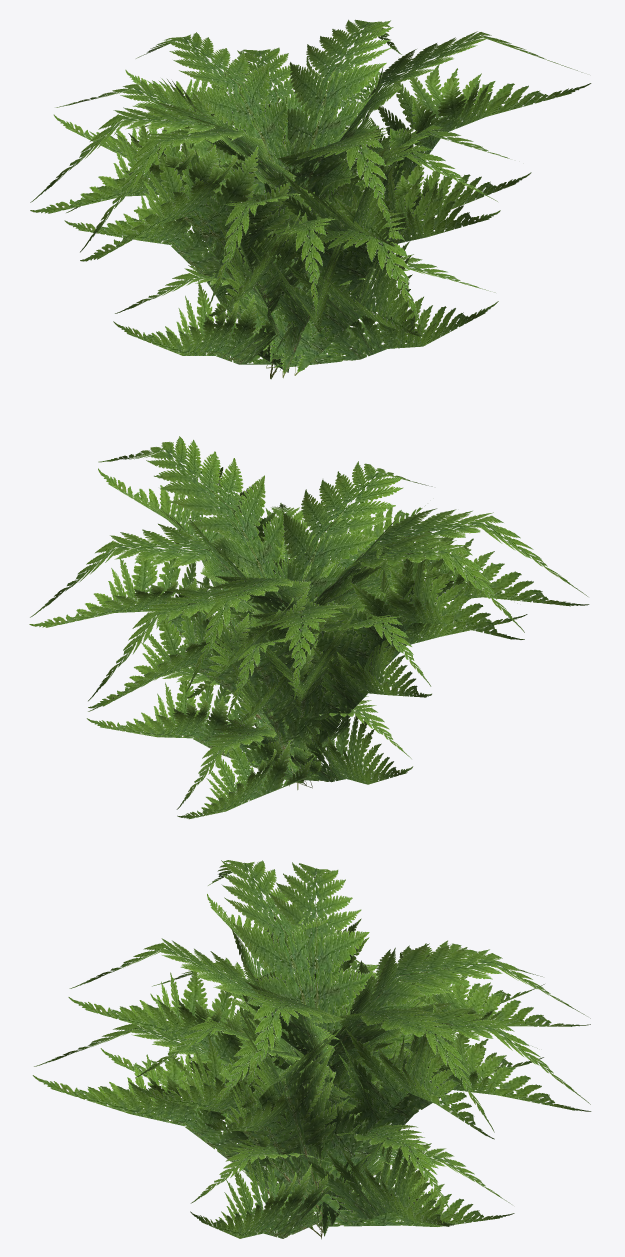
File: Farn02.FBX
The picture shows the model from 3 angles, top to bottom: view 1: azimuth 30°, elevation 25°; view 2: azimuth 150°, elevation 25°; view 3: azimuth 270°, elevation 25°; orthographic projection. The views are drawn at different scales.
Parts seen in each view (by area): view 1: Yucca02; view 2: Yucca02; view 3: Yucca02.
Part boxes in pixels (bbox=[...]): Yucca02: bbox=[30, 19, 591, 379]; Yucca02: bbox=[29, 436, 589, 819]; Yucca02: bbox=[32, 860, 591, 1239].
Size of the model in its own units: 266 by 155 by 255.
Materials: 1 (1 with a texture image).
